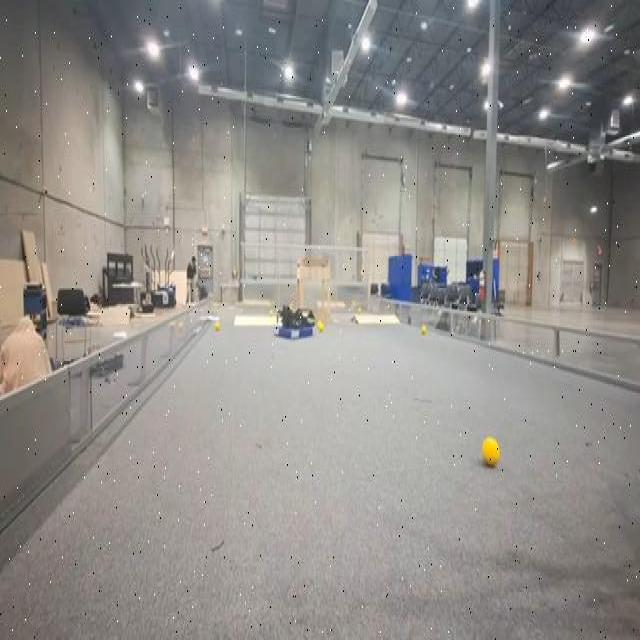Fuel: (482, 438, 500, 468), (317, 320, 323, 331), (214, 322, 220, 332), (215, 322, 220, 332), (421, 326, 426, 334)
